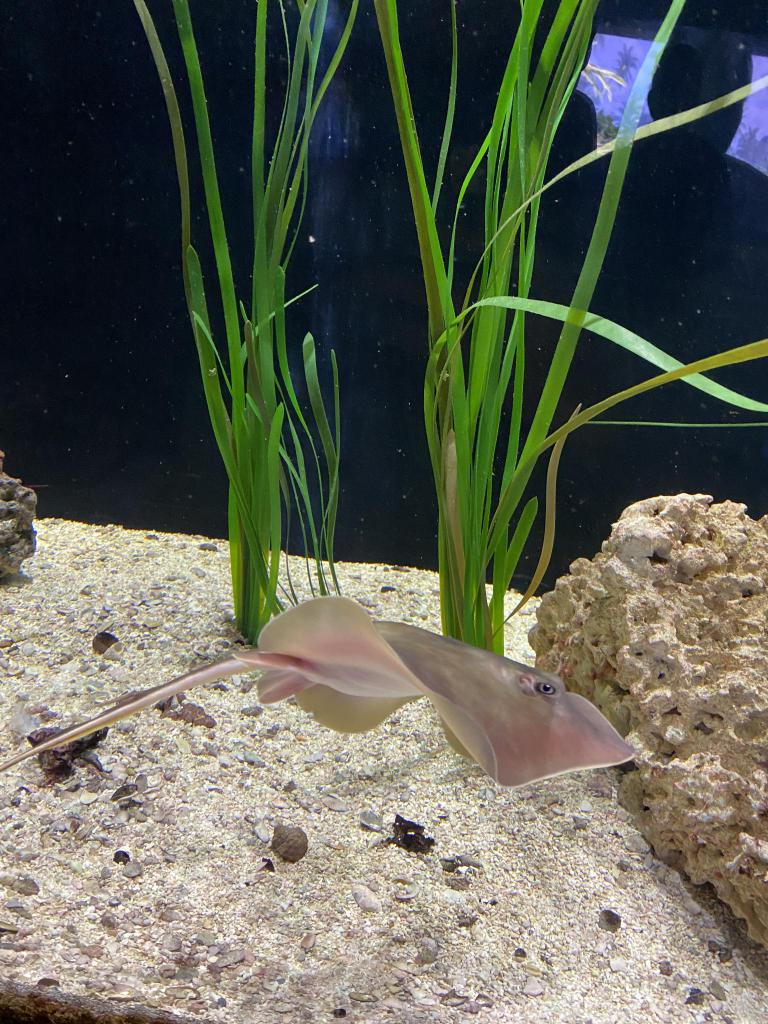stingray: (243, 596, 641, 810)
